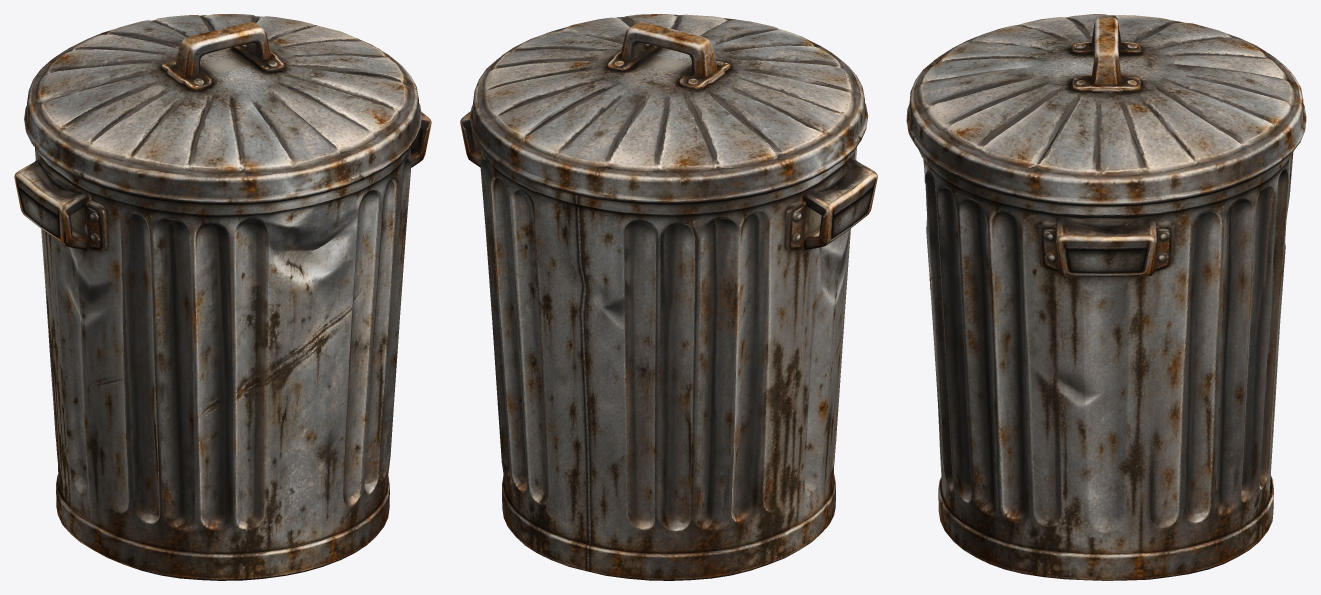
The model's file is rusty+trash+can+3d+model.glb.
3 renders of one model, left to right at view 1: azimuth 30°, elevation 25°; view 2: azimuth 150°, elevation 25°; view 3: azimuth 270°, elevation 25°, orthographic.
Parts seen in each view (by area): view 1: tripo_node_388ba296-e854-41ed-b719-b40aea811e07; view 2: tripo_node_388ba296-e854-41ed-b719-b40aea811e07; view 3: tripo_node_388ba296-e854-41ed-b719-b40aea811e07.
Part boxes in pixels (x1,y1,x2,y2): tripo_node_388ba296-e854-41ed-b719-b40aea811e07: [14, 14, 431, 580]; tripo_node_388ba296-e854-41ed-b719-b40aea811e07: [460, 14, 877, 580]; tripo_node_388ba296-e854-41ed-b719-b40aea811e07: [906, 14, 1306, 580].
Bounding box in the file's own units: 0.814 × 0.9995 × 0.7495.
1 material, 1 textured.
